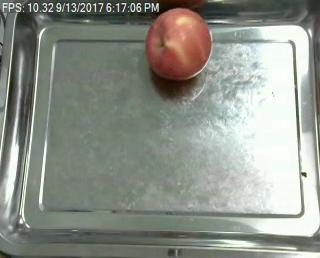apple: (147, 11, 213, 80)
